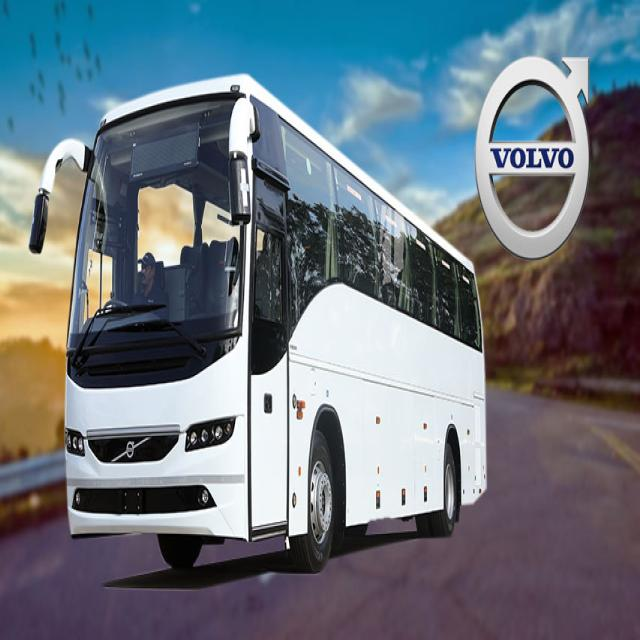bus: (30, 75, 485, 568)
